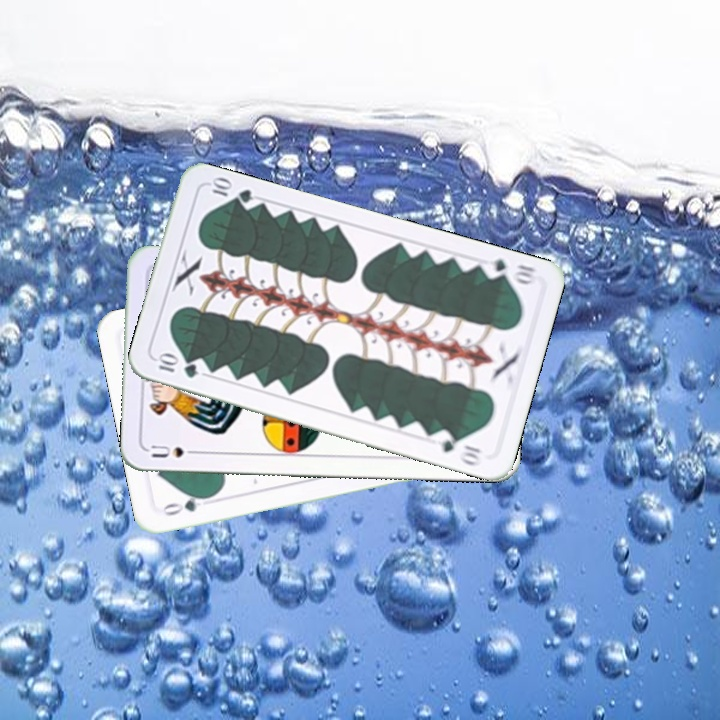G10: (479, 255, 540, 287), (154, 351, 201, 381)
GO: (157, 491, 215, 519)
SU: (147, 441, 204, 460)
